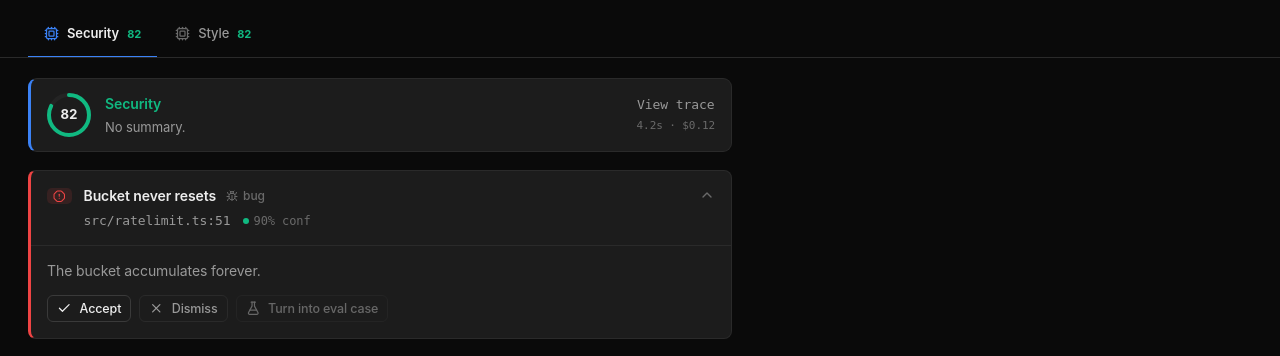
Test: AgentTabs (R5/R6) › switching tabs shows the selected agent's own findings
Expected: the text "Bucket never resets" is shown, x1=84 y1=185 x2=216 y2=206
Click the text "Style" at (214, 34), box x1=198 y1=24 x2=229 y2=44
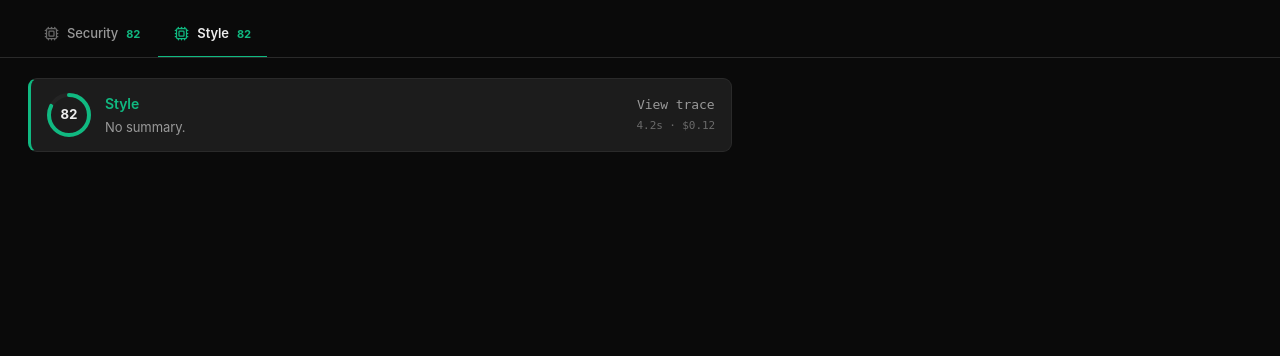
Expected: the text "Bucket never resets" is gone
